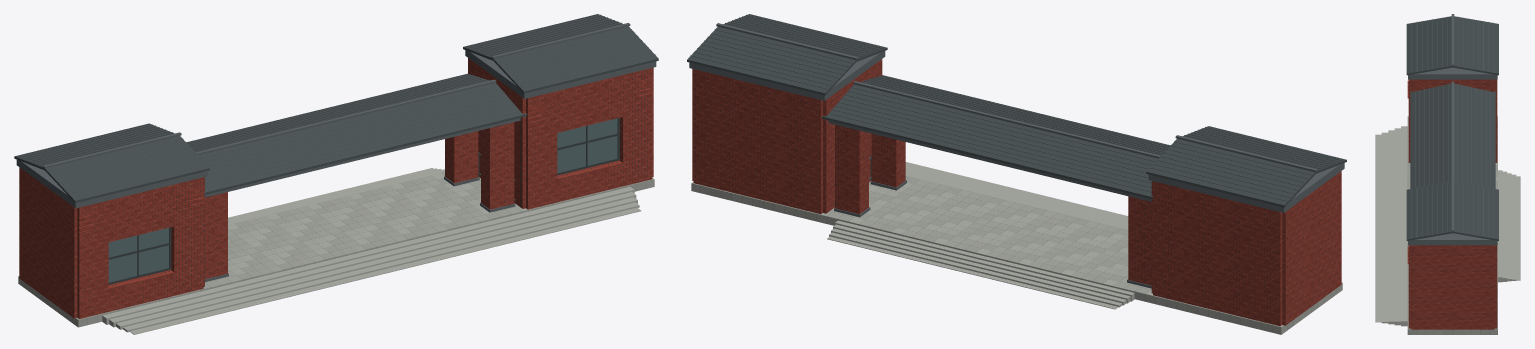
Rendered from landscape_v4.glb.
3 renders of one model, left to right at view 1: azimuth 30°, elevation 25°; view 2: azimuth 150°, elevation 25°; view 3: azimuth 270°, elevation 25°, orthographic. The views are drawn at different scales.
Parts seen in each view (by area): view 1: V4_GATE_RED_WALLS, V4_GATE_WALK_TERRACE, V4_GATE_CENTRAL_ROOF, V4_GATE_SIDE_ROOFS, V4_GATE_WALK_FRONT_STEPS, V4_GATE_RED_COLUMNS, V4_GATE_CENTRAL_ROOF_TILE_COURSES, V4_GATE_SIDE_ROOFS_TILE_COURSES, V4_GATE_GLAZING, V4_GATE_GRAY_EAVES, V4_GATE_WALK_REAR_STEPS, V4_GATE_CENTRAL_ROOF_RIDGE (+4 smaller); view 2: V4_GATE_RED_WALLS, V4_GATE_WALK_TERRACE, V4_GATE_CENTRAL_ROOF, V4_GATE_SIDE_ROOFS, V4_GATE_WALK_REAR_STEPS, V4_GATE_RED_COLUMNS, V4_GATE_CENTRAL_ROOF_TILE_COURSES, V4_GATE_SIDE_ROOFS_TILE_COURSES, V4_GATE_WALK_FRONT_STEPS, V4_GATE_GRAY_EAVES, V4_GATE_CENTRAL_ROOF_RIDGE, V4_GATE_SIDE_ROOFS_RIDGE (+1 smaller); view 3: V4_GATE_SIDE_ROOFS, V4_GATE_RED_WALLS, V4_GATE_CENTRAL_ROOF, V4_GATE_WALK_FRONT_STEPS, V4_GATE_WALK_REAR_STEPS, V4_GATE_SIDE_ROOFS_TILE_COURSES, V4_GATE_GRAY_EAVES, V4_GATE_CENTRAL_ROOF_TILE_COURSES, V4_GATE_WALK_TERRACE, V4_GATE_SIDE_ROOFS_RIDGE, V4_GATE_CENTRAL_ROOF_RIDGE.
Part boxes in pixels (x1,y1,x2,y2): V4_GATE_RED_WALLS: (19,58,653,318); V4_GATE_WALK_TERRACE: (18,172,654,327); V4_GATE_CENTRAL_ROOF: (186,73,526,194); V4_GATE_SIDE_ROOFS: (14,14,658,202); V4_GATE_WALK_FRONT_STEPS: (102,186,641,334); V4_GATE_RED_COLUMNS: (205,122,514,279); V4_GATE_CENTRAL_ROOF_TILE_COURSES: (187,74,520,188); V4_GATE_SIDE_ROOFS_TILE_COURSES: (17,14,655,197); V4_GATE_GLAZING: (108,118,617,282); V4_GATE_GRAY_EAVES: (16,50,656,208); V4_GATE_WALK_REAR_STEPS: (228,168,444,224); V4_GATE_CENTRAL_ROOF_RIDGE: (196,79,496,155); V4_GATE_RED_WALLS: (692,59,1341,326); V4_GATE_WALK_TERRACE: (691,176,1342,334); V4_GATE_CENTRAL_ROOF: (822,75,1170,199); V4_GATE_SIDE_ROOFS: (687,14,1346,207); V4_GATE_WALK_REAR_STEPS: (827,220,1134,309); V4_GATE_RED_COLUMNS: (835,125,1151,285); V4_GATE_CENTRAL_ROOF_TILE_COURSES: (828,75,1169,192); V4_GATE_SIDE_ROOFS_TILE_COURSES: (690,14,1343,201); V4_GATE_WALK_FRONT_STEPS: (905,162,1128,229); V4_GATE_GRAY_EAVES: (689,51,1344,212); V4_GATE_CENTRAL_ROOF_RIDGE: (853,81,1160,158); V4_GATE_SIDE_ROOFS_RIDGE: (716,23,1317,172); V4_GATE_SIDE_ROOFS: (1406,16,1498,240); V4_GATE_RED_WALLS: (1408,79,1497,329); V4_GATE_CENTRAL_ROOF: (1410,83,1495,188); V4_GATE_WALK_FRONT_STEPS: (1375,126,1407,326); V4_GATE_WALK_REAR_STEPS: (1498,170,1520,282); V4_GATE_SIDE_ROOFS_TILE_COURSES: (1411,16,1493,238); V4_GATE_GRAY_EAVES: (1408,67,1497,245); V4_GATE_CENTRAL_ROOF_TILE_COURSES: (1415,84,1490,187); V4_GATE_WALK_TERRACE: (1407,116,1497,334); V4_GATE_SIDE_ROOFS_RIDGE: (1451,14,1454,231); V4_GATE_CENTRAL_ROOF_RIDGE: (1451,81,1454,179).
Bounding box in the file's own units: 33.94 × 7.79 × 9.65.
10 materials, 3 textured.
